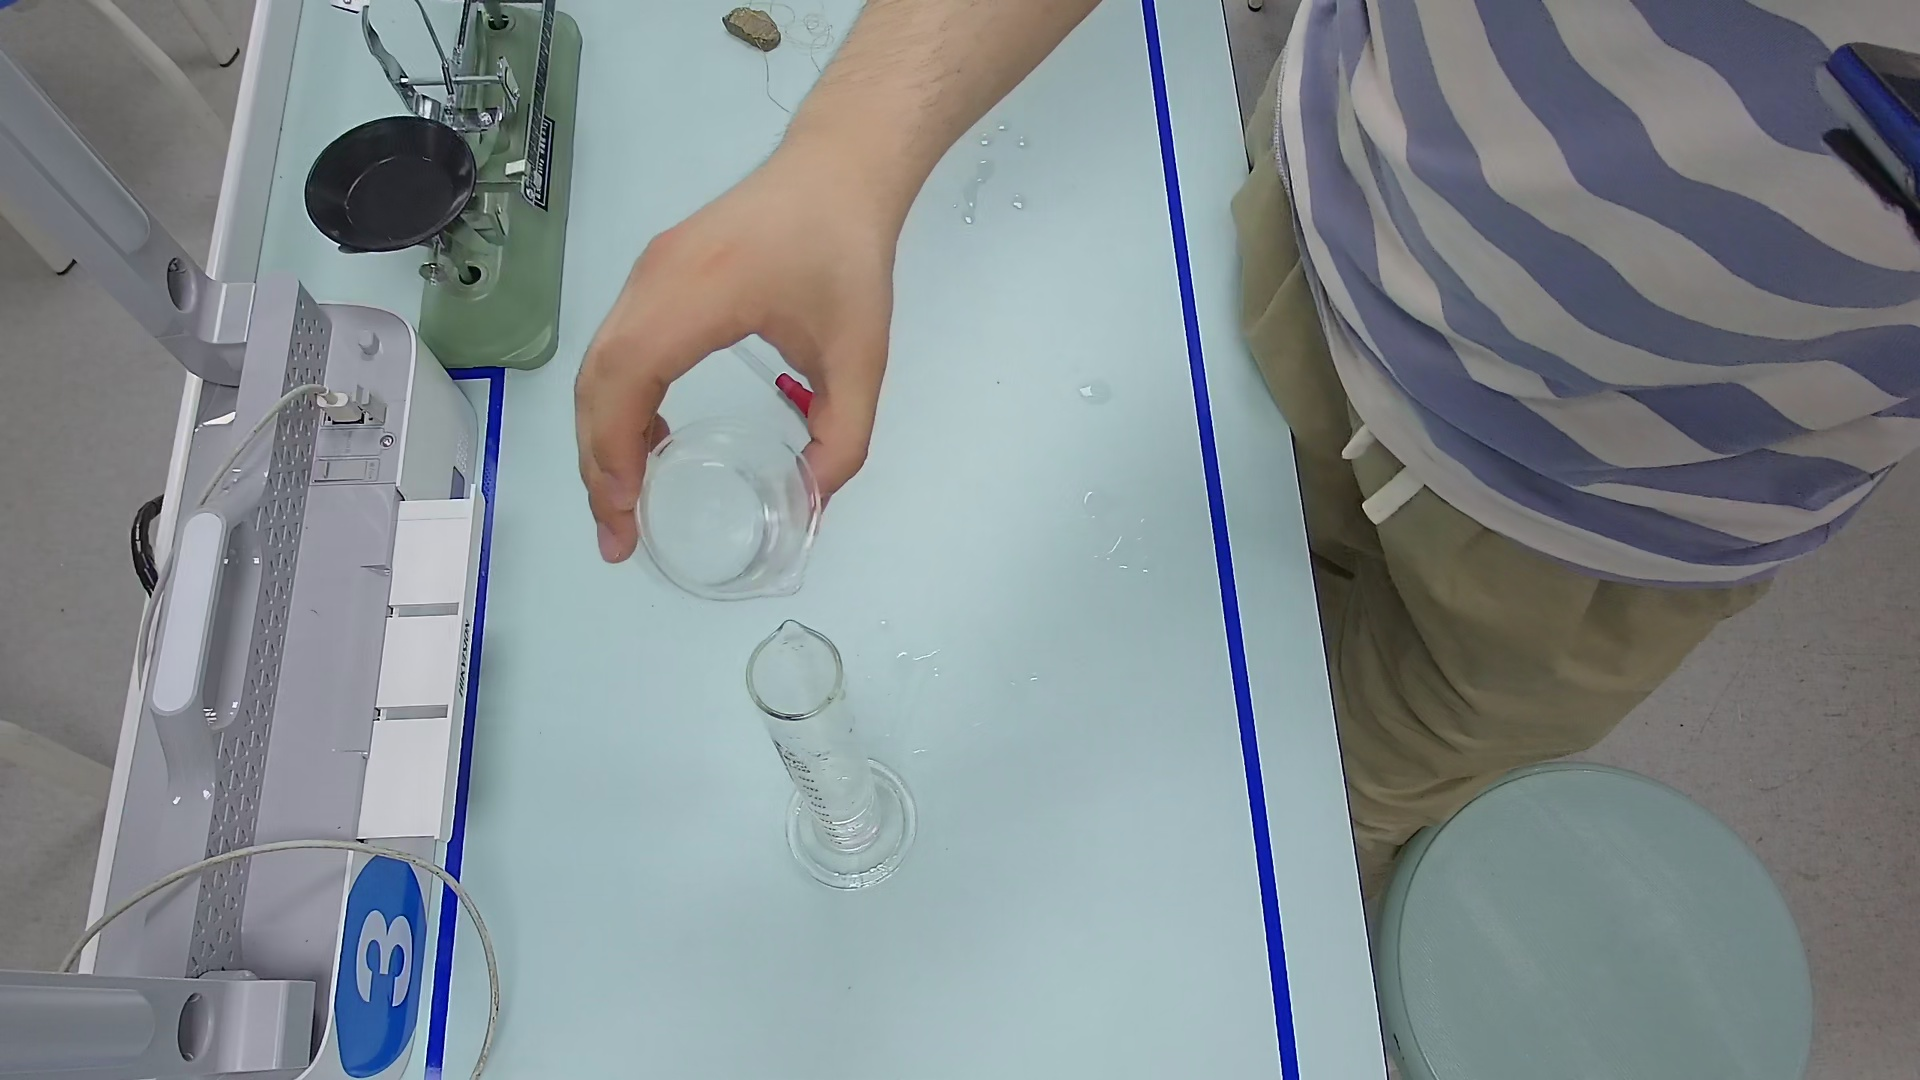ao: (803, 769, 866, 811)
bei: (617, 409, 827, 609)
diguan: (717, 336, 835, 418)
diguantou: (773, 371, 822, 419)
hand: (572, 219, 901, 558)
liangdi: (770, 774, 918, 884)
liangtong: (733, 613, 902, 889)
shi: (719, 1, 785, 55)
tuo: (297, 111, 477, 272)
